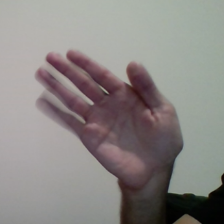left: (27, 41, 197, 189)
